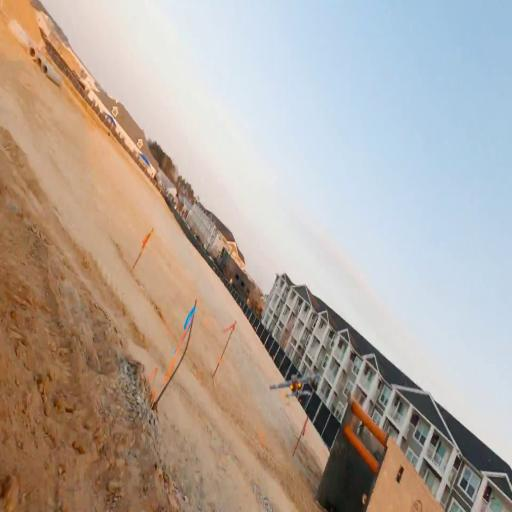uav: (265, 367, 323, 400)
